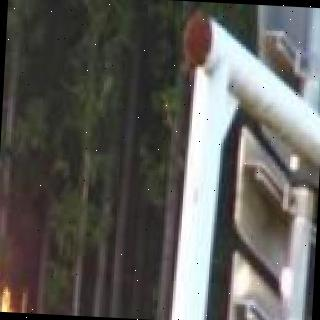fire: (0, 143, 27, 312)
